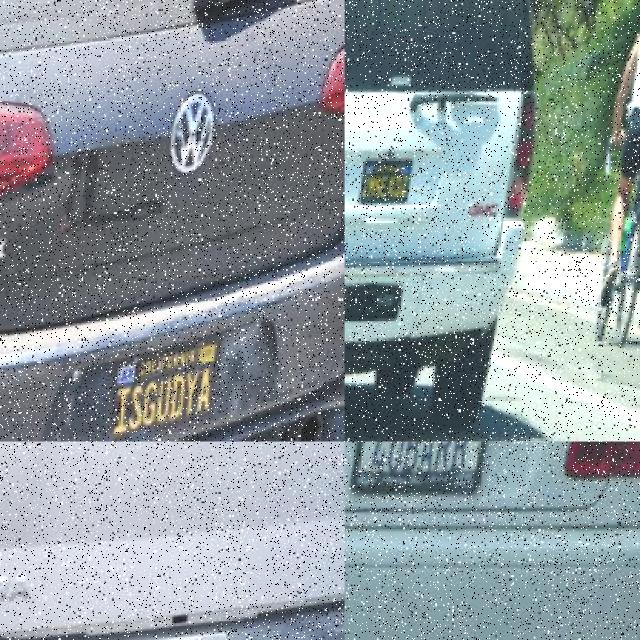licenseplate: (114, 334, 237, 441), (354, 442, 497, 509), (362, 160, 418, 214)
